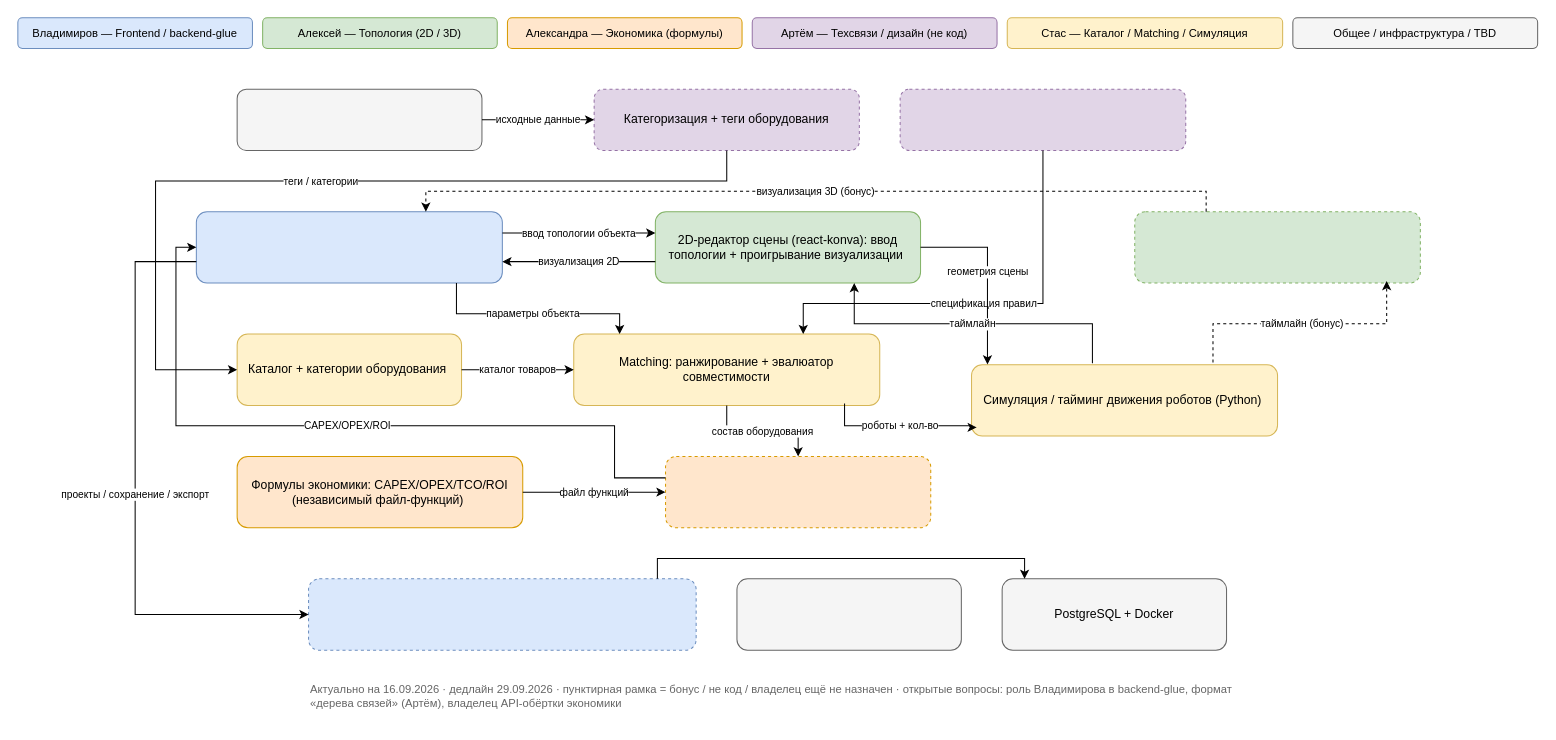
Image size: 1556x740. Some labels were removed from this diagram. Each missing label, with the centre of its shape:
"3D-режим просмотра (react-three-fiber, бонус, read-only)" belongs at point 1277,247.
"API-обёртка экономики" belongs at point 798,491.
"Backend-glue: проекты / persistence / auth / экспорт" belongs at point 502,614.
"Frontend: визард 8 шагов (React)" belongs at point 348,247.
"Общие контракты (pydantic-схемы)" belongs at point 848,614.
"Спецификация правил совместимости / «дерево связей»" belongs at point 1042,119.
"Файлы оргов: каталог решений, цены БАС/БРС (Excel), демо-датасеты объектов" belongs at point 359,119.
